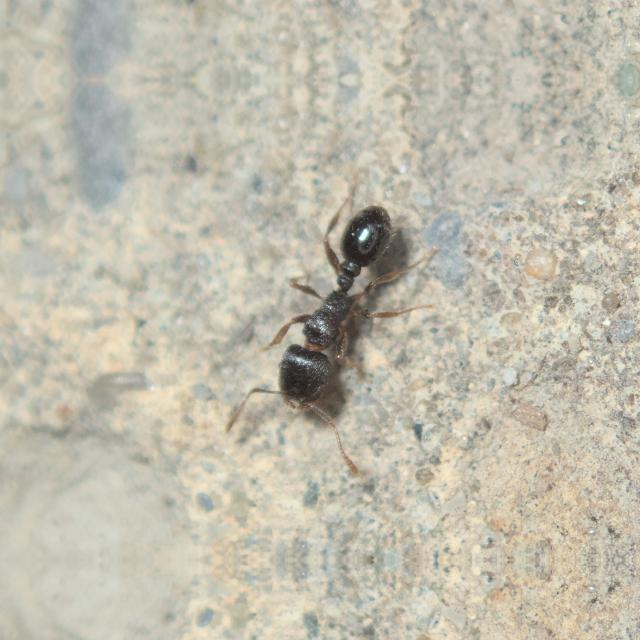Tetramorium: (255, 185, 413, 428)
